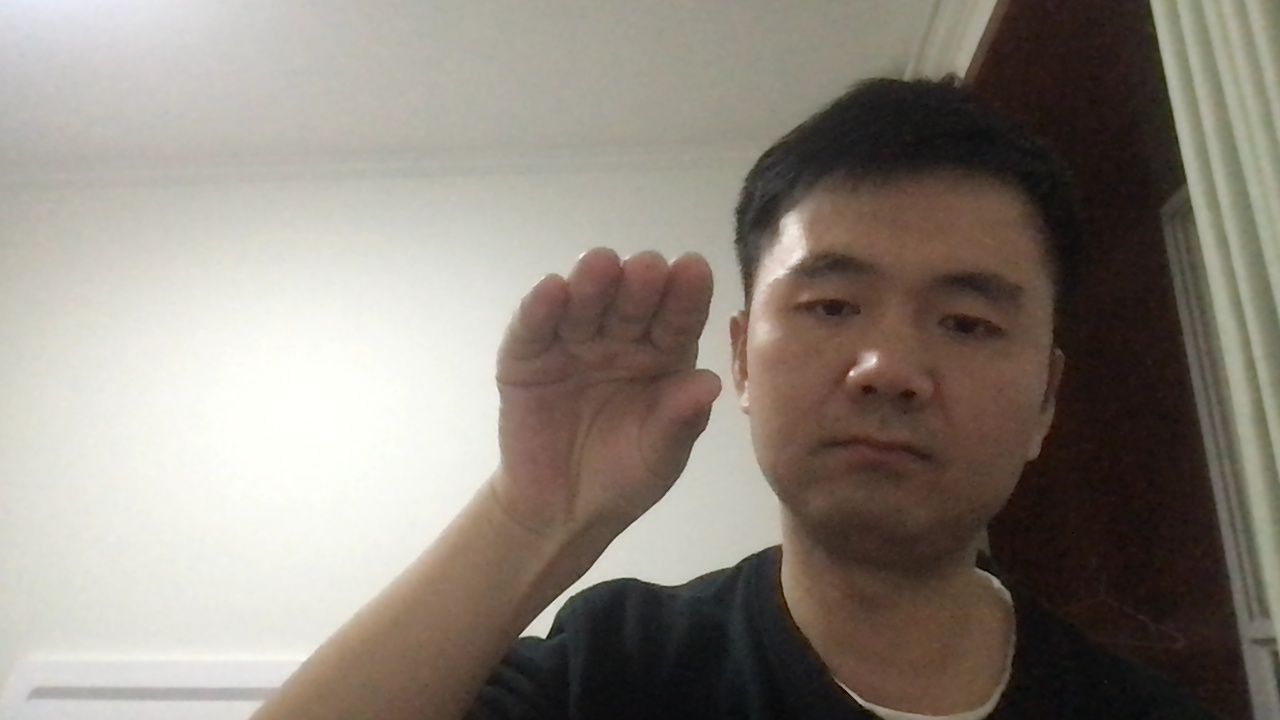no: (468, 230, 738, 522)
